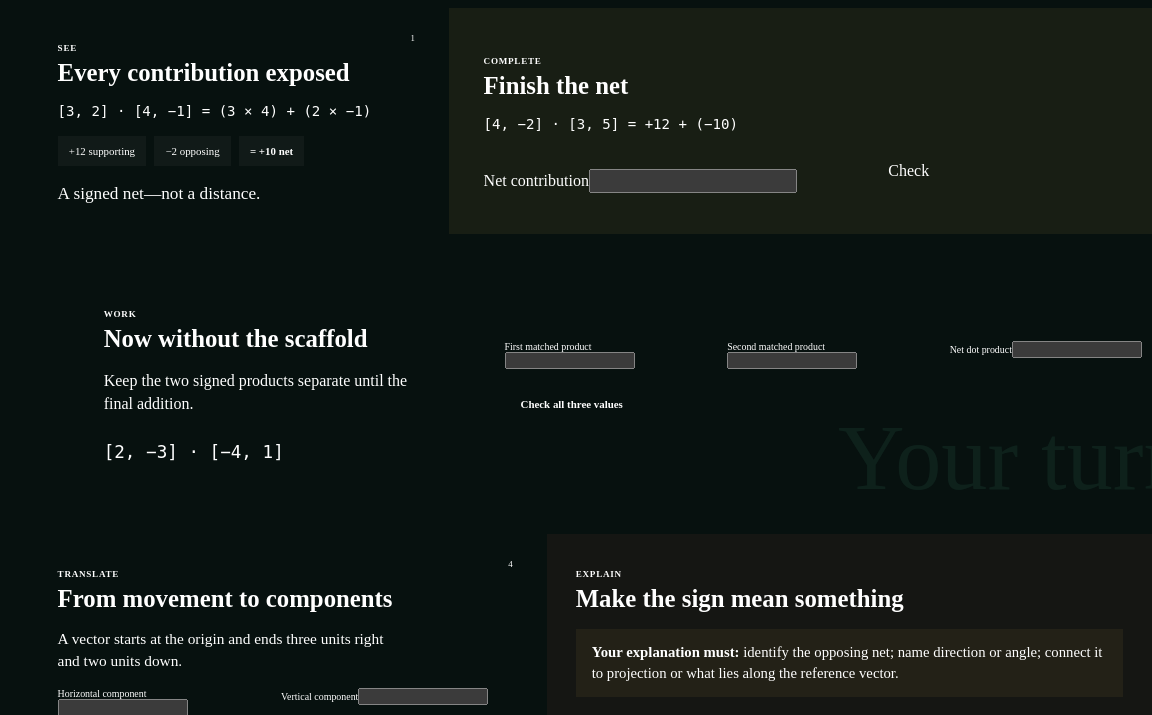
Test: revised world learning contracts › wrong calculation preserves work and begins progressive teaching
(page scrolled)
Type "8" into the field labelled "First matched product".
click(570, 361); type("8")  # box x1=505 y1=352 x2=635 y2=369
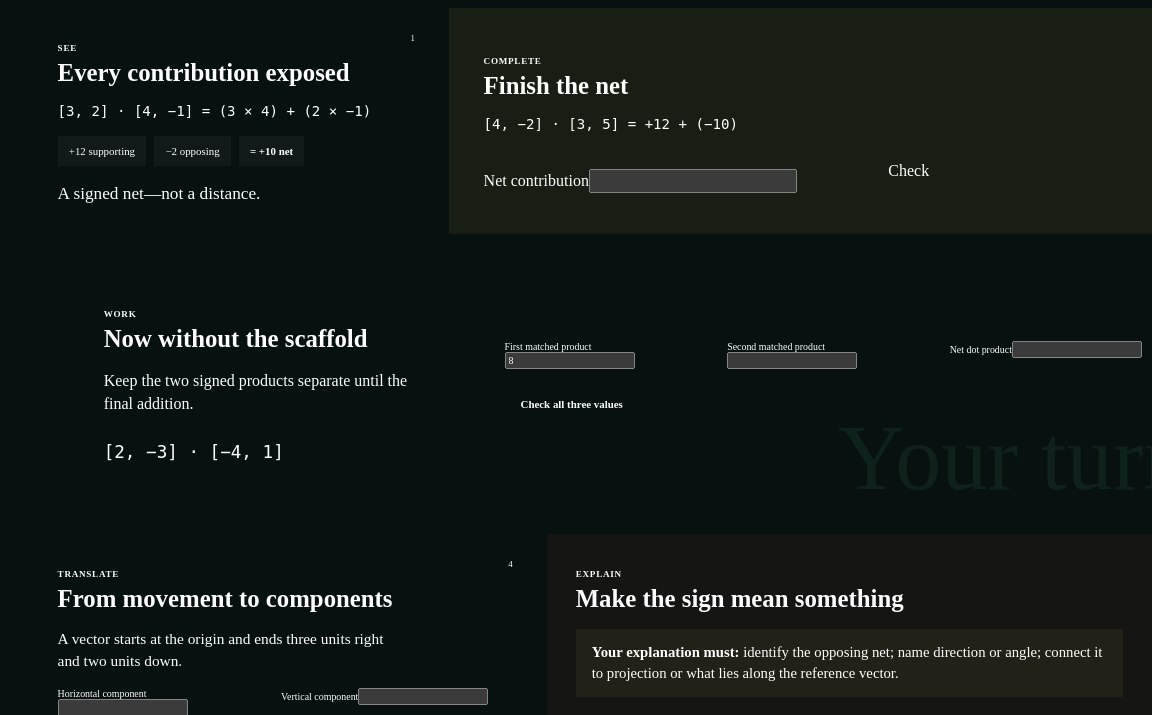
Type "-3" into the field labelled "Second matched product".
click(792, 361); type("-3")  # box x1=727 y1=352 x2=857 y2=369
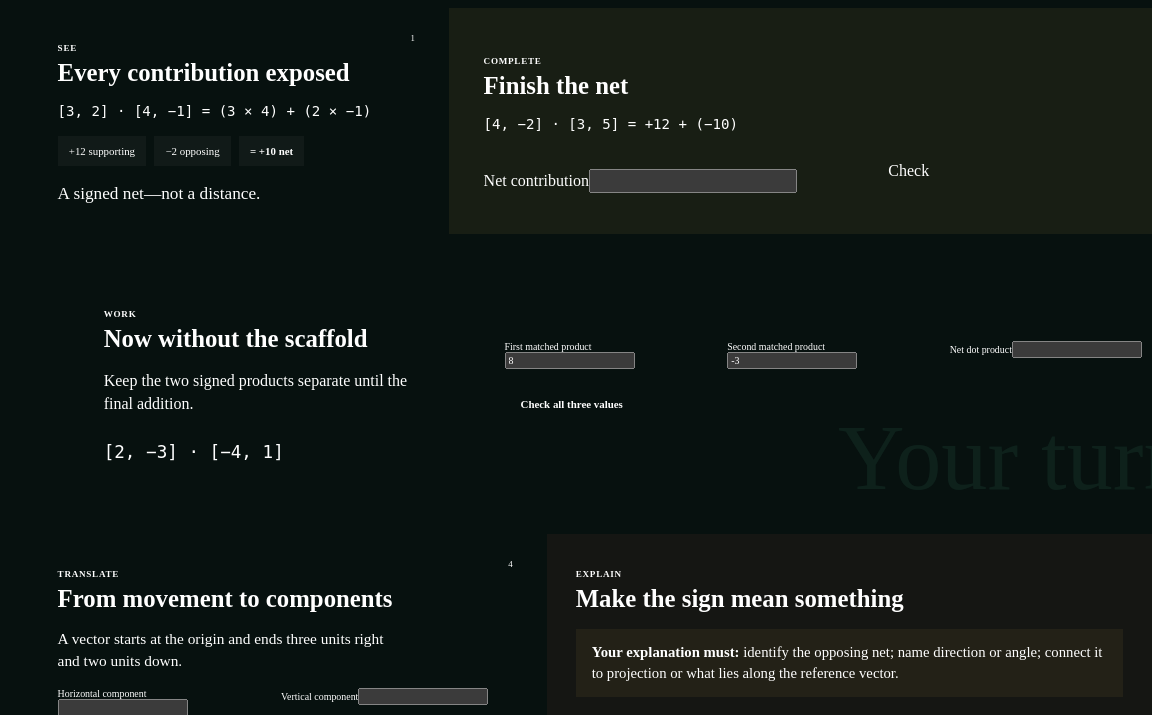
Type "5" into the field labelled "Net dot product".
click(1077, 350); type("5")  # box x1=1012 y1=341 x2=1142 y2=358
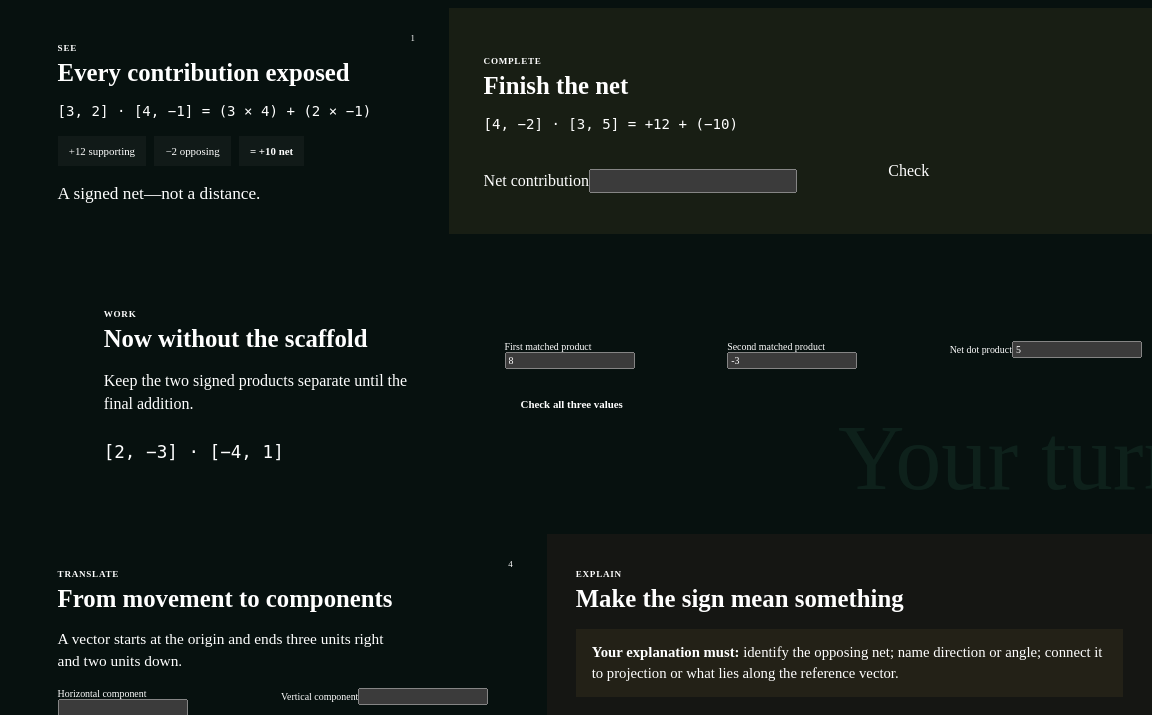
Click the button "Check all three values".
click(572, 404)  # box x1=505 y1=380 x2=639 y2=426
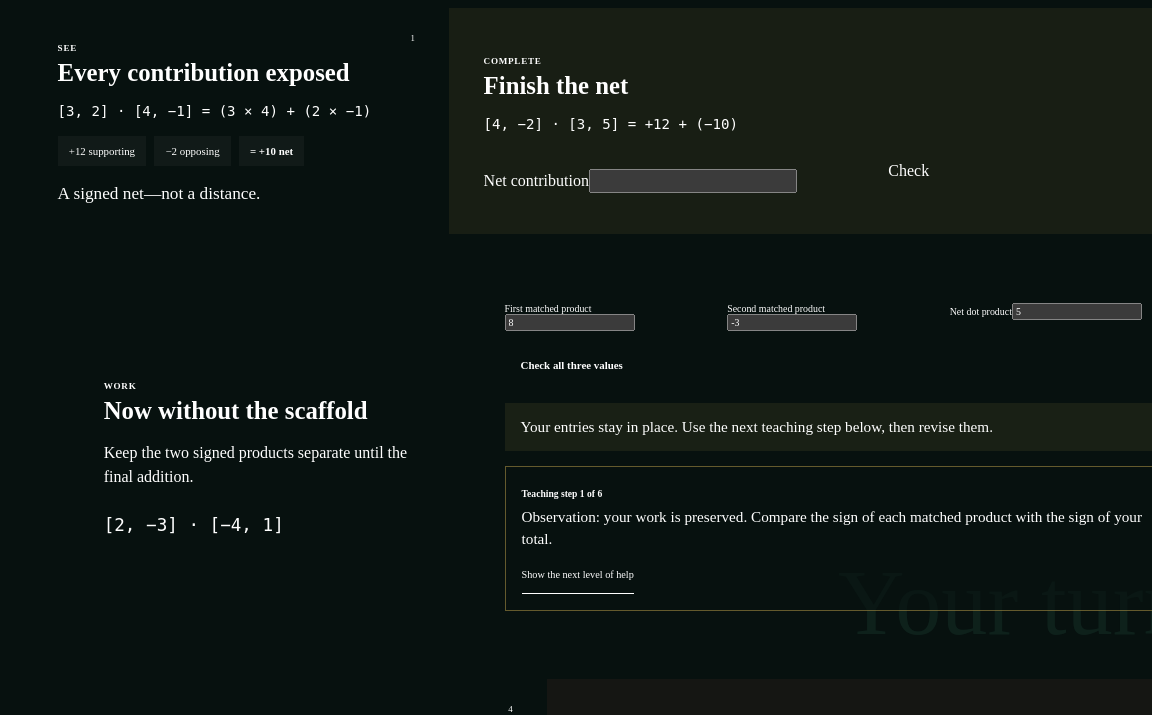
Expected: the text "Teaching step 1 of 6" is shown, x1=522 y1=488 x2=602 y2=499
